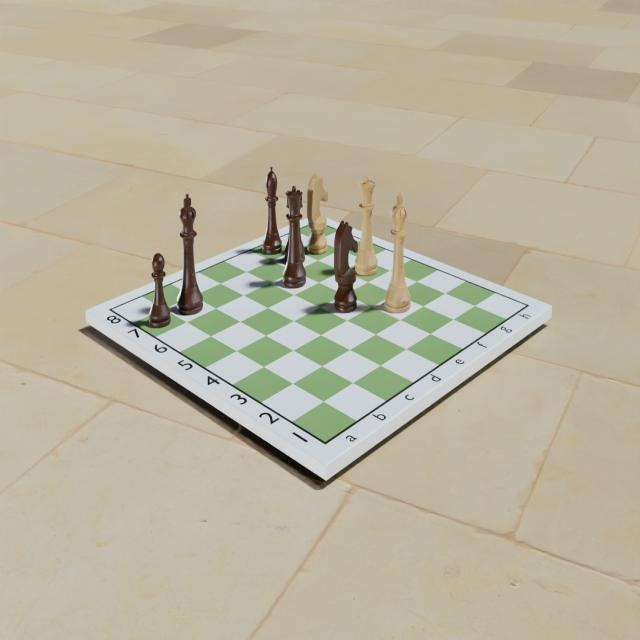black-bishop: (261, 163, 283, 256)
black-king: (177, 191, 205, 315)
black-knight: (331, 220, 358, 316)
black-pawn: (149, 250, 171, 328)
black-queen: (281, 184, 306, 288)
black-rook: (282, 187, 306, 265)
white-king: (383, 187, 413, 316)
white-knight: (306, 172, 329, 255)
white-queen: (355, 174, 381, 278)
